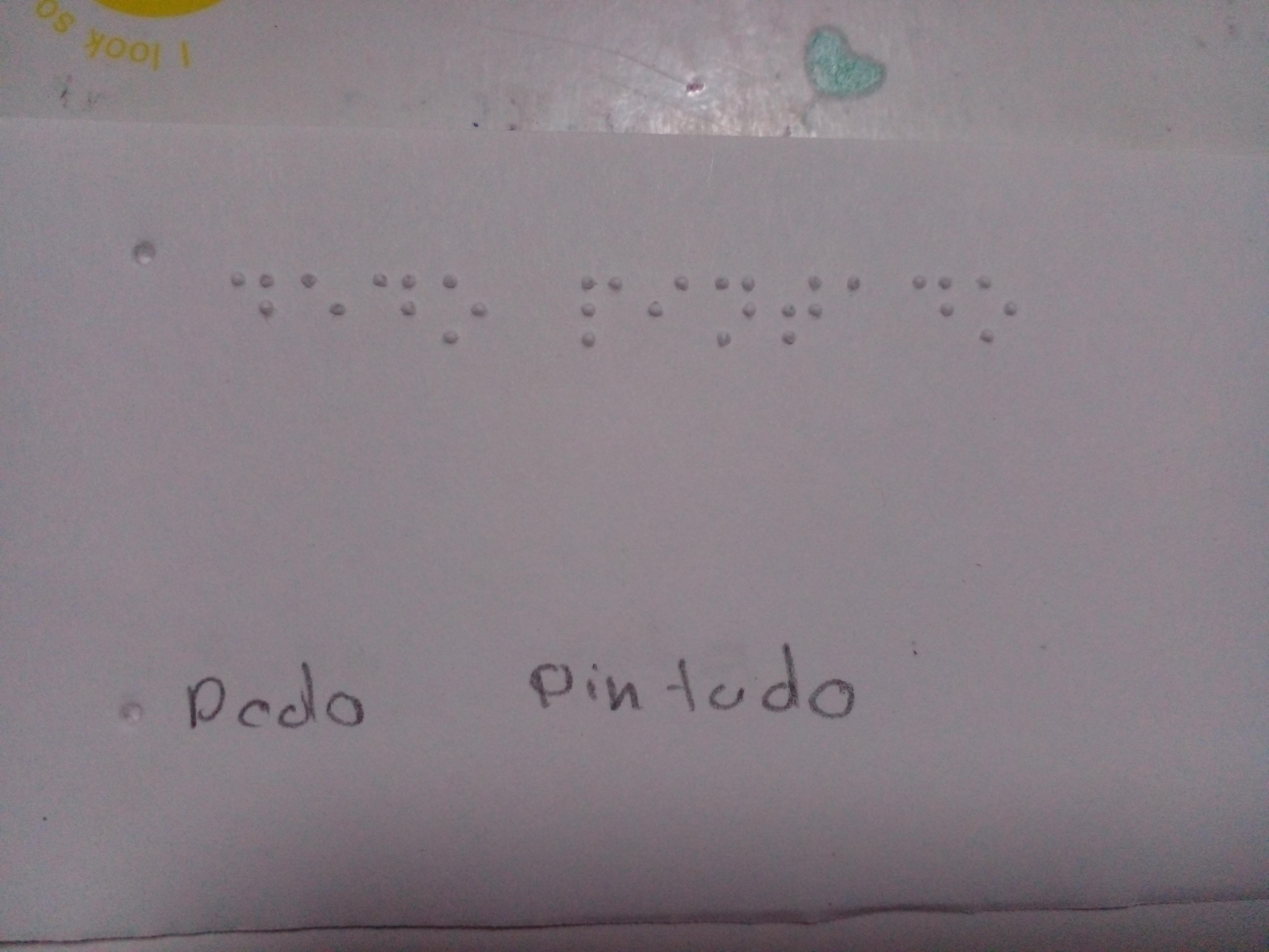a: (835, 265, 869, 310)
d: (231, 259, 283, 327), (905, 271, 964, 327), (358, 270, 421, 321)
e: (297, 262, 347, 338)
i: (634, 260, 694, 338)
n: (705, 273, 761, 355)
o: (434, 263, 486, 349), (974, 268, 1021, 350)
p: (564, 262, 629, 359)
t: (773, 265, 829, 356)
